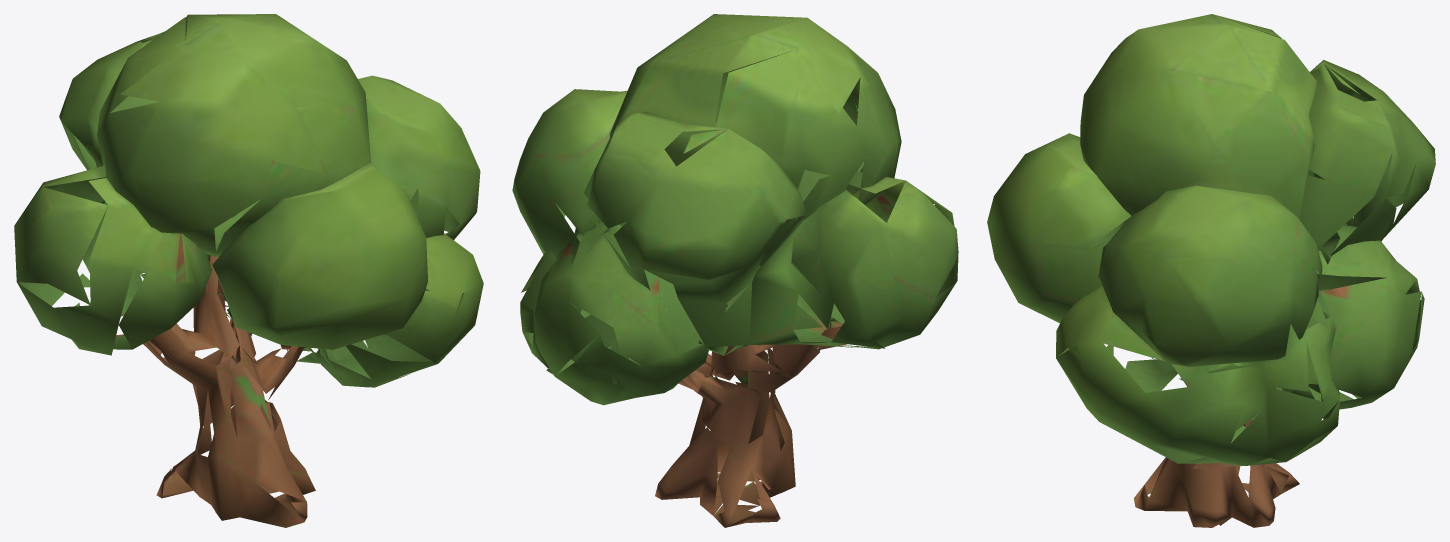
The model's file is grenade-tree-a-low.glb.
The picture shows the model from 3 angles, left to right: view 1: azimuth 30°, elevation 25°; view 2: azimuth 150°, elevation 25°; view 3: azimuth 270°, elevation 25°; orthographic projection. The views are drawn at different scales.
Size of the model in its own units: 0.9072 by 0.9531 by 0.835.
Materials: 1 (1 with a texture image).
